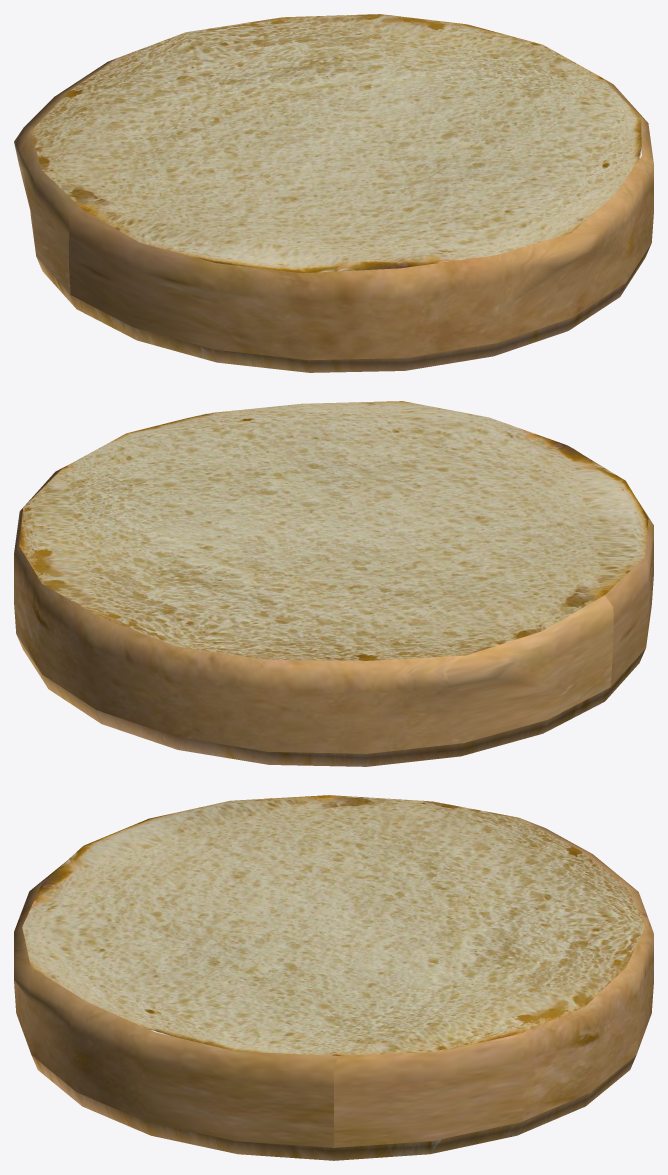
Rendered from lower_bun.fbx.
3 views of the same model, one above another, from view 1: azimuth 30°, elevation 25°; view 2: azimuth 150°, elevation 25°; view 3: azimuth 270°, elevation 25° (orthographic). The views are drawn at different scales.
Visible parts, largest first — view 1: lower_bun; view 2: lower_bun; view 3: lower_bun.
Boxes of the visible parts, x1,y1,x2,y2 form: lower_bun: (14,14,653,372); lower_bun: (14,401,653,766); lower_bun: (14,795,653,1160).
Bounding box in the file's own units: 460 × 89.7 × 459.
